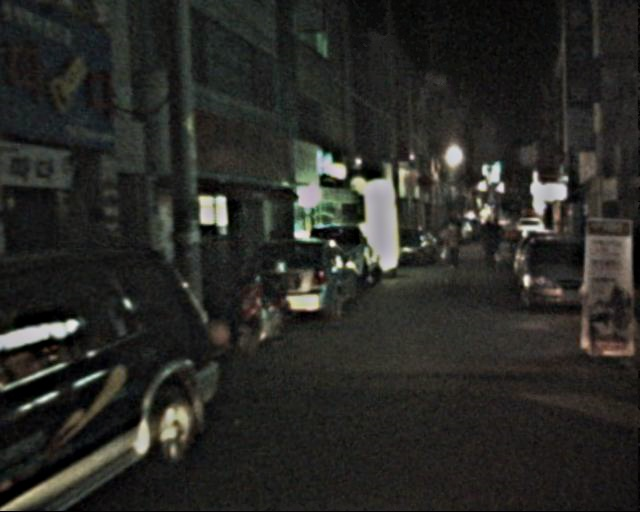person: (444, 216, 472, 273), (481, 215, 509, 272)
